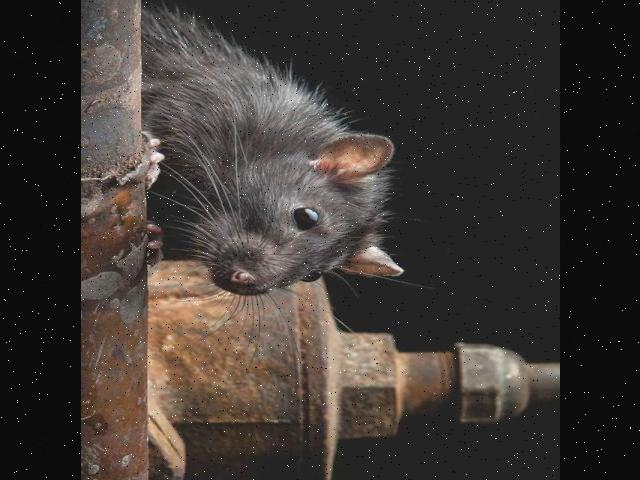Tikus: (138, 7, 408, 300)
